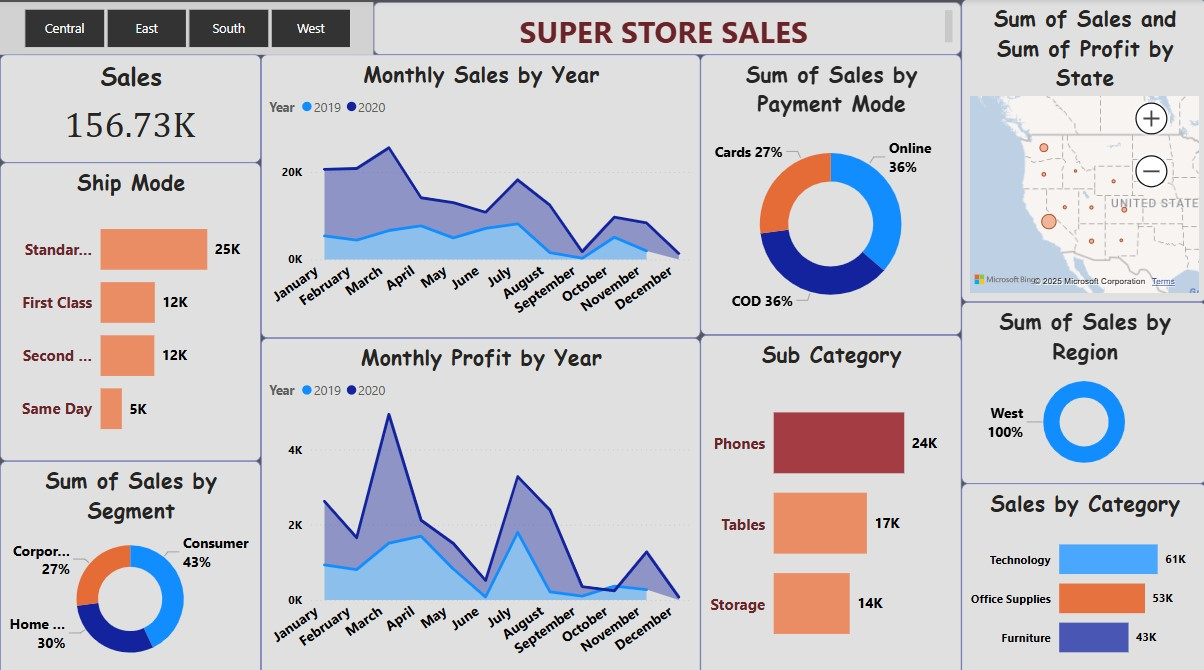

The page's visual inventory and layout, read from the dashboard file:
{"tool":"powerbi","page":{"name":"Page 1","canvas":[1280,720],"ordinal":0},"visuals":[{"type":"clusteredBarChart","title":" Sales by Category","fields":{"Category":["SuperStore_Sales_Dataset.Category"],"Y":["Sum(SuperStore_Sales_Dataset.Sales)"]},"box":[1019.6,513.8,260.9,206.8],"z":0},{"type":"clusteredBarChart","title":"Sub Category","fields":{"Category":["SuperStore_Sales_Dataset.Sub-Category"],"Y":["Sum(SuperStore_Sales_Dataset.Sales)"]},"box":[742.8,356.3,276.8,364.2],"z":1000},{"type":"clusteredBarChart","title":"Ship Mode","fields":{"Y":["Sum(SuperStore_Sales_Dataset.Sales)"],"Category":["SuperStore_Sales_Dataset.Ship mode"]},"box":[0,173.4,276.8,316.5],"z":2000},{"type":"stackedAreaChart","title":"Monthly Sales by Year","fields":{"Y":["Sum(SuperStore_Sales_Dataset.Sales)"],"Category":["SuperStore_Sales_Dataset.Order Date.Variation.Date Hierarchy.Month","SuperStore_Sales_Dataset.Order Date.Variation.Date Hierarchy.Day"],"Series":["SuperStore_Sales_Dataset.Order Date.Variation.Date Hierarchy.Year"]},"box":[276.8,58.9,466,300.6],"z":3000},{"type":"stackedAreaChart","title":"Monthly Profit by Year","fields":{"Category":["SuperStore_Sales_Dataset.Order Date.Variation.Date Hierarchy.Month","SuperStore_Sales_Dataset.Order Date.Variation.Date Hierarchy.Day"],"Series":["SuperStore_Sales_Dataset.Order Date.Variation.Date Hierarchy.Year"],"Y":["Sum(SuperStore_Sales_Dataset.Profit)"]},"box":[276.8,359.5,466,361.1],"z":4000},{"type":"map","fields":{"Category":["SuperStore_Sales_Dataset.State"],"Size":["Sum(SuperStore_Sales_Dataset.Sales)"]},"box":[1019.6,0,260.9,321.3],"z":5000},{"type":"donutChart","fields":{"Category":["SuperStore_Sales_Dataset.Segment"],"Y":["Sum(SuperStore_Sales_Dataset.Sales)"]},"box":[0,489.9,276.8,230.6],"z":6000},{"type":"donutChart","fields":{"Y":["Sum(SuperStore_Sales_Dataset.Sales)"],"Category":["SuperStore_Sales_Dataset.Region"]},"box":[1019.6,321.3,260.9,192.5],"z":7000},{"type":"donutChart","fields":{"Y":["Sum(SuperStore_Sales_Dataset.Sales)"],"Category":["SuperStore_Sales_Dataset.Payment Mode"]},"box":[742.8,58.9,276.8,297.4],"z":8000},{"type":"slicer","fields":{"Values":["SuperStore_Sales_Dataset.Region"]},"box":[0,3.2,396.1,55.7],"z":9000},{"type":"textbox","box":[396.1,3.2,623.5,55.7],"z":10000},{"type":"card","title":"Sales","fields":{"Values":["Sum(SuperStore_Sales_Dataset.Sales)"]},"box":[0,58.9,276.8,114.5],"z":11000}]}

Visuals, with their boxes in screenshot pixels (x1, y1, x2, y2), scaled from the page's 1280x720 canvas onto the 1204x670 screenshot:
" Sales by Category" clusteredBarChart: x1=959, y1=478, x2=1203, y2=669
"Sub Category" clusteredBarChart: x1=699, y1=332, x2=959, y2=669
"Ship Mode" clusteredBarChart: x1=0, y1=161, x2=260, y2=456
"Monthly Sales by Year" stackedAreaChart: x1=260, y1=55, x2=699, y2=335
"Monthly Profit by Year" stackedAreaChart: x1=260, y1=335, x2=699, y2=669
map - SuperStore_Sales_Dataset.State x Sum(SuperStore_Sales_Dataset.Sales): x1=959, y1=0, x2=1203, y2=299
donutChart - SuperStore_Sales_Dataset.Segment x Sum(SuperStore_Sales_Dataset.Sales): x1=0, y1=456, x2=260, y2=669
donutChart - Sum(SuperStore_Sales_Dataset.Sales) x SuperStore_Sales_Dataset.Region: x1=959, y1=299, x2=1203, y2=478
donutChart - Sum(SuperStore_Sales_Dataset.Sales) x SuperStore_Sales_Dataset.Payment Mode: x1=699, y1=55, x2=959, y2=332
slicer - SuperStore_Sales_Dataset.Region: x1=0, y1=3, x2=373, y2=55
textbox: x1=373, y1=3, x2=959, y2=55
"Sales" card: x1=0, y1=55, x2=260, y2=161
